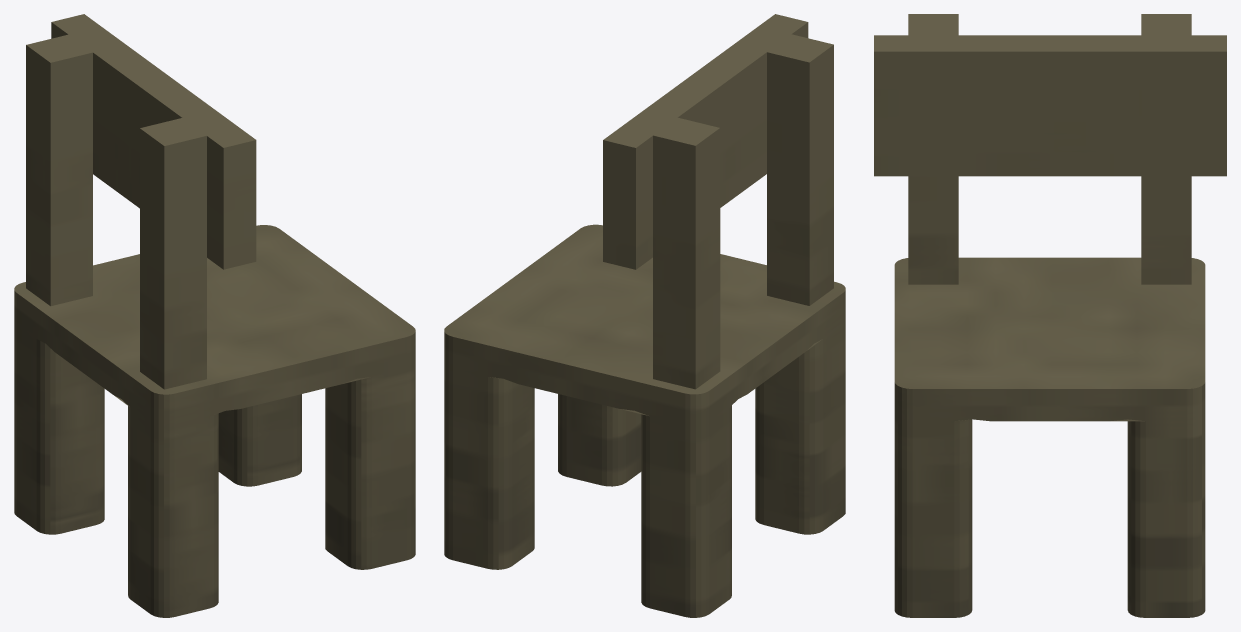
Rendered from Chair.glb.
3 renders of one model, left to right at view 1: azimuth 30°, elevation 25°; view 2: azimuth 150°, elevation 25°; view 3: azimuth 270°, elevation 25°, orthographic. The views are drawn at different scales.
Visible parts, largest first — view 1: Chair_Baked; view 2: Chair_Baked; view 3: Chair_Baked.
Boxes of the visible parts, x1,y1,x2,y2 form: Chair_Baked: (14,14,415,617); Chair_Baked: (444,14,845,617); Chair_Baked: (874,14,1226,617).
Size of the model in its own units: 2.15 by 3.64 by 2.44.
1 material, 1 textured.
